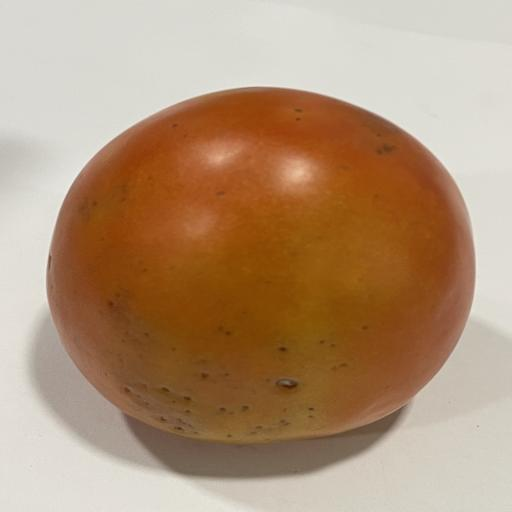ripe: (47, 88, 475, 444)
